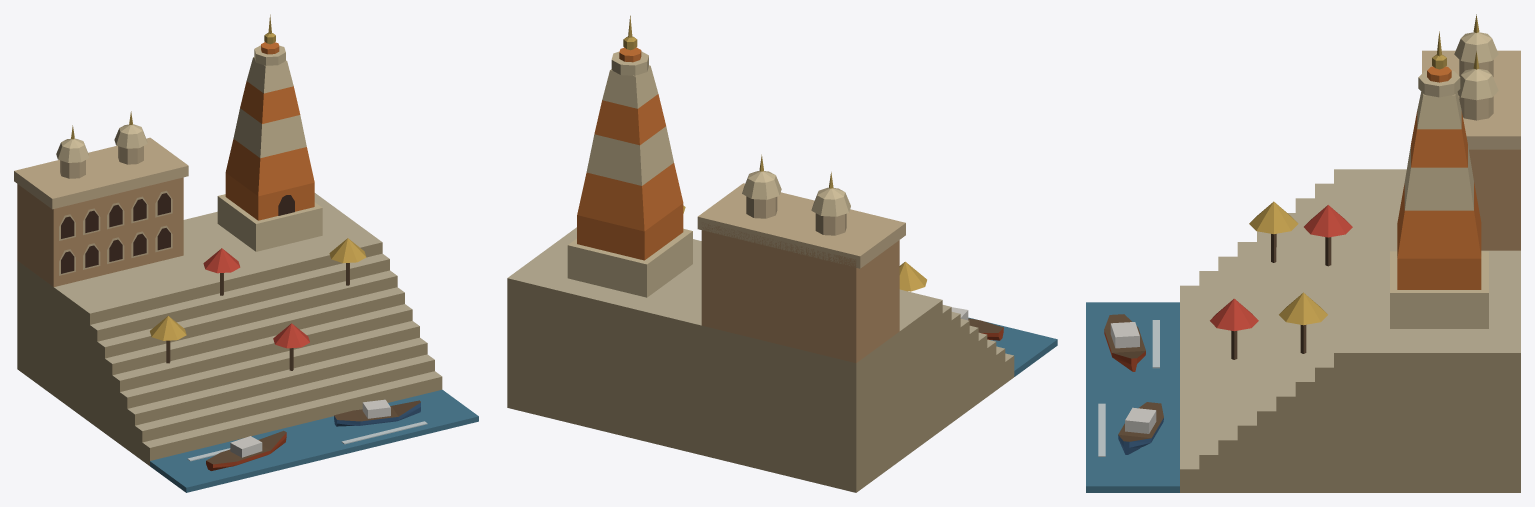
Rendered from ghats.glb.
3 views of the same model, side by side, from view 1: azimuth 30°, elevation 25°; view 2: azimuth 150°, elevation 25°; view 3: azimuth 270°, elevation 25° (orthographic). The views are drawn at different scales.
Visible parts, largest first — view 1: ghats; view 2: ghats; view 3: ghats.
Part boxes in pixels (x1=…): ghats: x1=14, y1=14, x2=478, y2=492; ghats: x1=507, y1=15, x2=1057, y2=492; ghats: x1=1086, y1=14, x2=1520, y2=492.
Bounding box in the file's own units: 1.78 × 1.87 × 1.76.
